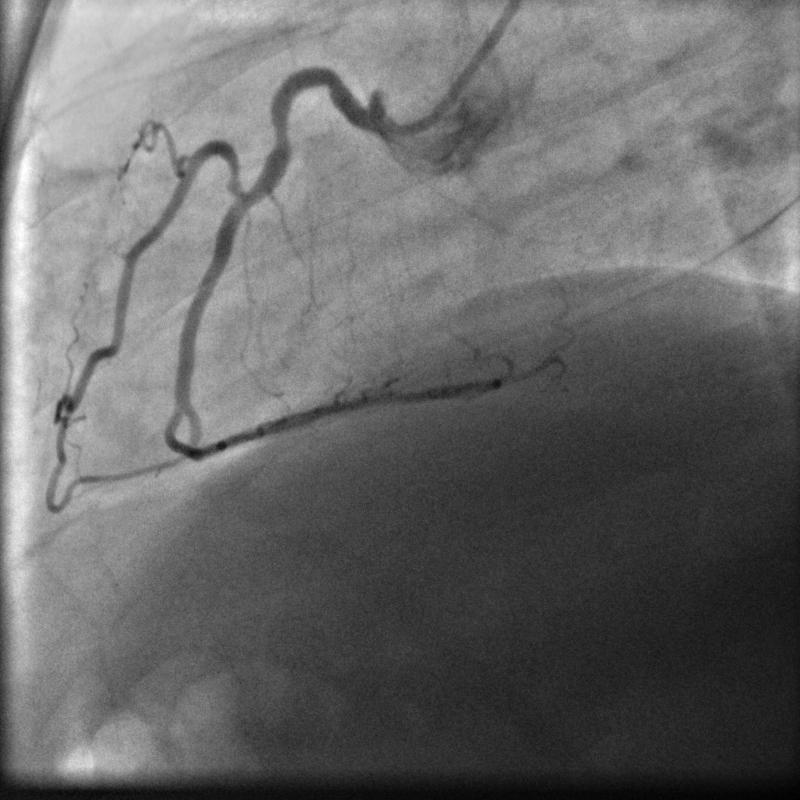Stenosis: (269, 117, 296, 151)
